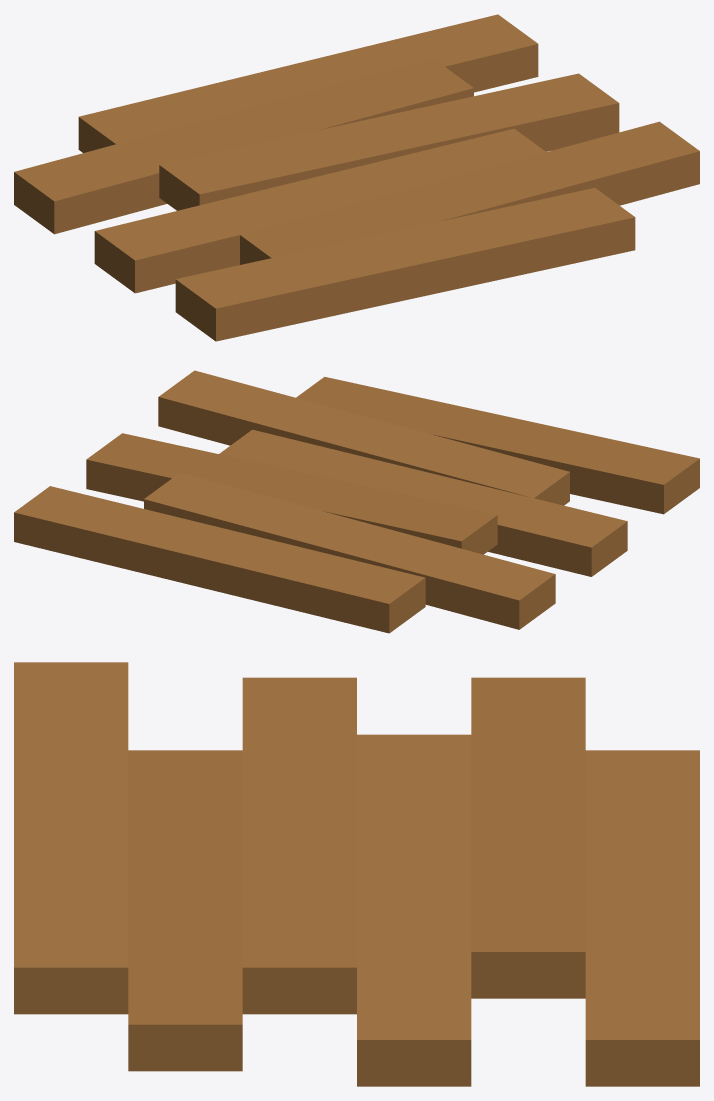
Rendered from wood_floor.fbx.
3 views of the same model, one above another, from view 1: azimuth 30°, elevation 25°; view 2: azimuth 150°, elevation 25°; view 3: azimuth 270°, elevation 25° (orthographic). The views are drawn at different scales.
Visible parts, largest first — view 1: wood_floor; view 2: wood_floor; view 3: wood_floor.
Boxes of the visible parts, x1,y1,x2,y2 form: wood_floor: [14, 14, 699, 341]; wood_floor: [14, 370, 699, 633]; wood_floor: [14, 662, 699, 1086].
Bounding box in the file's own units: 250 × 20 × 200.
